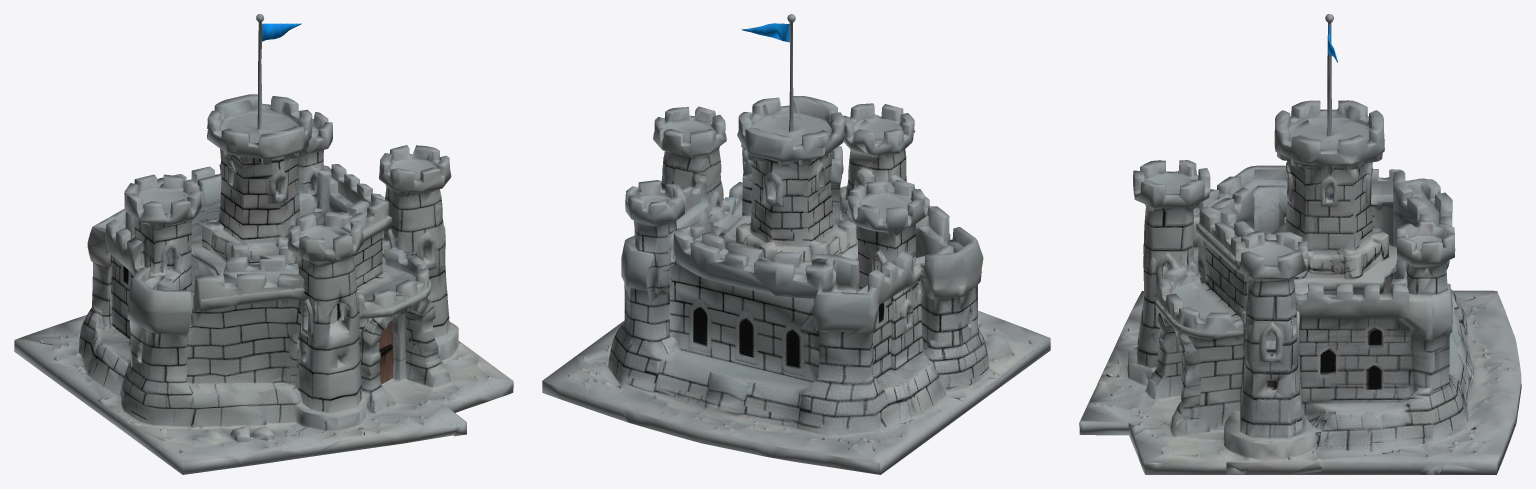
Rendered from building_castle.glb.
3 renders of one model, left to right at view 1: azimuth 30°, elevation 25°; view 2: azimuth 150°, elevation 25°; view 3: azimuth 270°, elevation 25°, orthographic. The views are drawn at different scales.
Size of the model in its own units: 1.74 by 1.78 by 1.9.
1 material, 1 textured.
